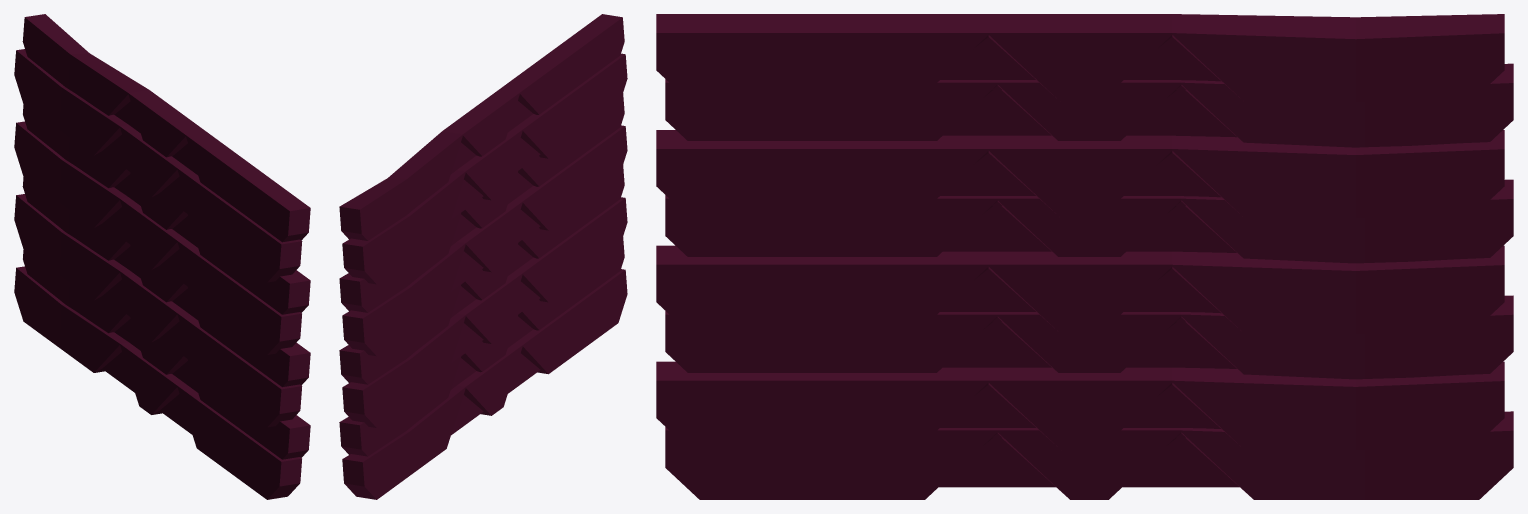
File: hangar.fbx
3 views of the same model, side by side, from view 1: azimuth 30°, elevation 25°; view 2: azimuth 150°, elevation 25°; view 3: azimuth 270°, elevation 25° (orthographic). The views are drawn at different scales.
Parts seen in each view (by area): view 1: Hangar; view 2: Hangar; view 3: Hangar.
Part boxes in pixels (<box>): Hangar: <box>14,14,310,499</box>; Hangar: <box>339,14,627,499</box>; Hangar: <box>656,14,1513,499</box>.
Size of the model in its own units: 27.69 by 264 by 430.
